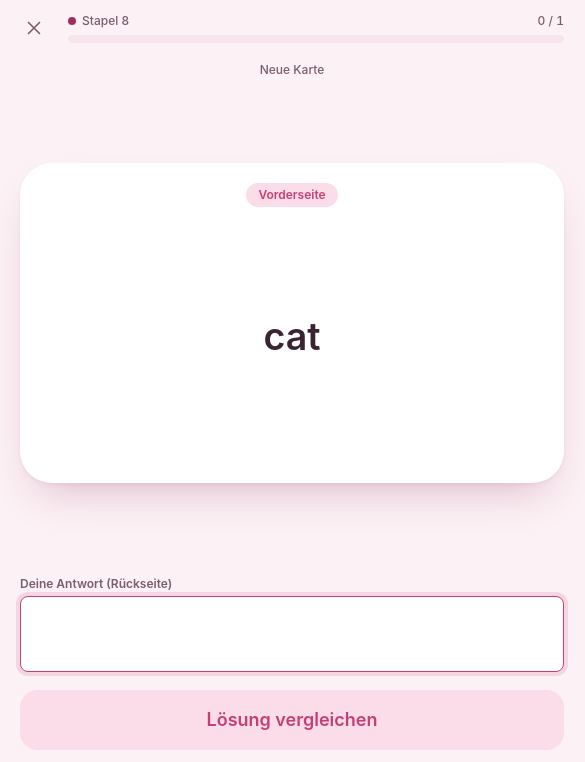
Test case: Study session › Enter in the answer field reveals the solution
In the text box with test id "typed-input": (292, 634) [20,596,564,672], type "Kaze"
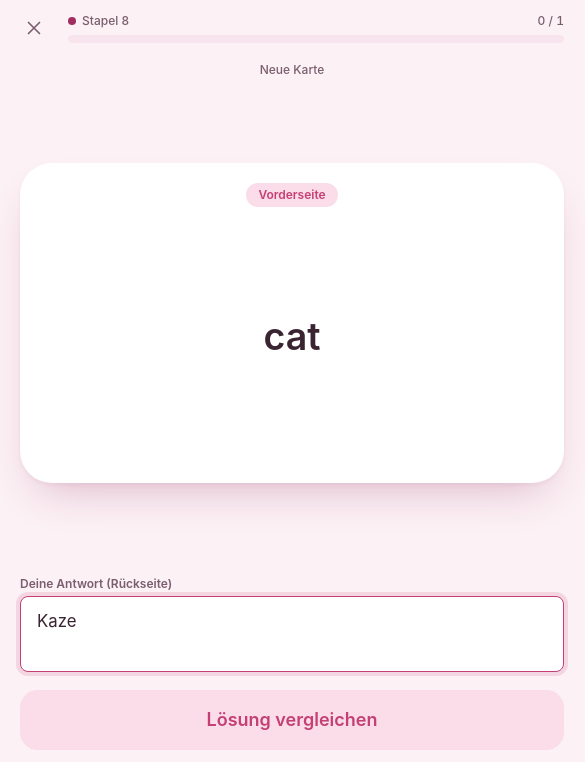
Press Enter in the text box with test id "typed-input", box [20,596,564,672]
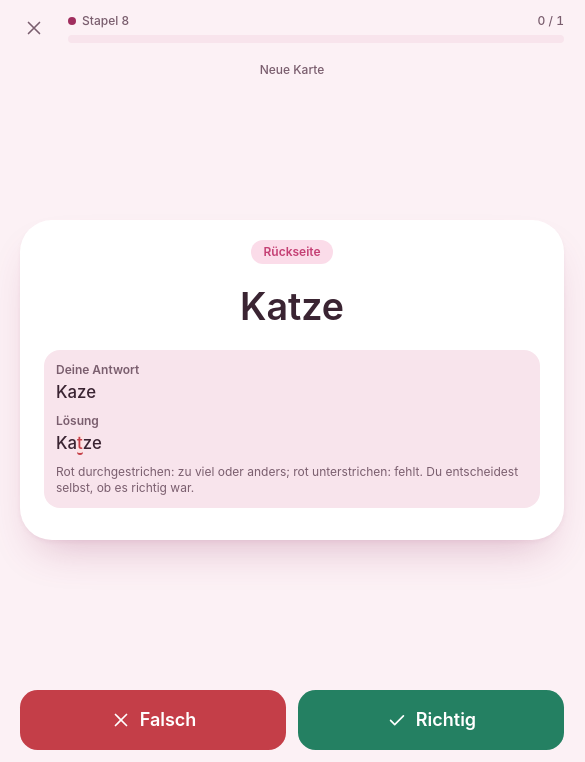
expect the button with test id "btn-right" is shown: met, box [298,690,564,750]
expect the text "t" is shown: met, box [77,433,83,455]
